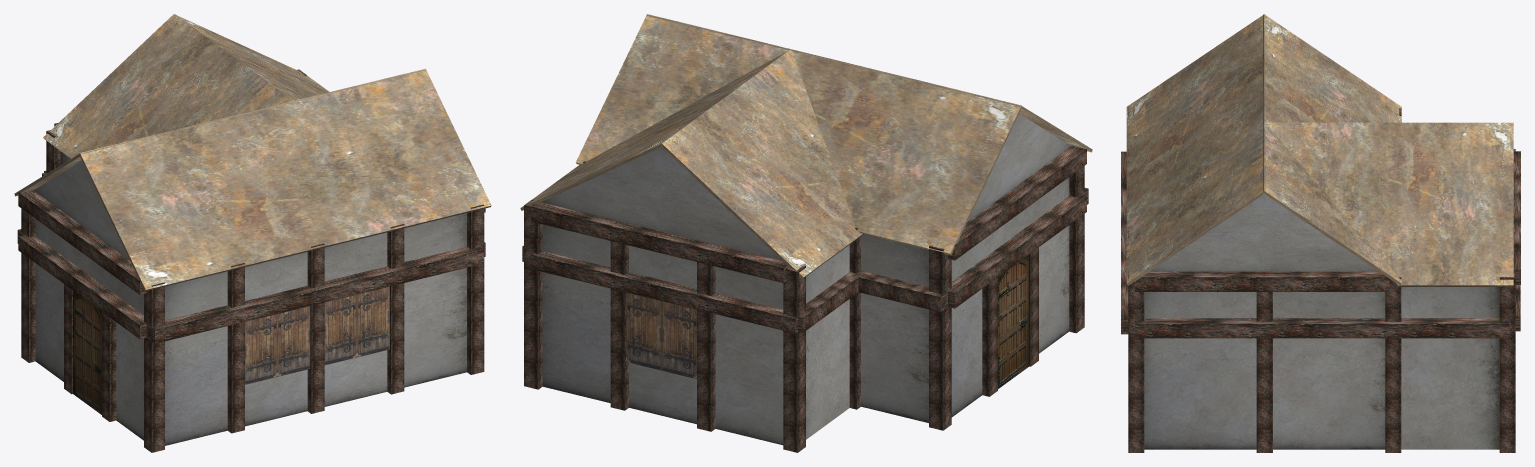
File: House1.FBX
3 renders of one model, left to right at view 1: azimuth 30°, elevation 25°; view 2: azimuth 150°, elevation 25°; view 3: azimuth 270°, elevation 25°, orthographic. The views are drawn at different scales.
Visible parts, largest first — view 1: Roof002, Base, Roof004, WoodenBeam014, HatchWindowLeft (×2), HatchWindowRight (×2), WoodenBeam006, Prism1, WoodenBeam009, WoodenPillar002, Door, Roof005 (+8 smaller); view 2: Base, Roof1, Roof004, Prism2, WoodenBeam013, WoodenBeam012, Roof005, WoodenBeam006, WoodenBeam009, Prism1, WoodenPillar007, WoodenPillar001 (+13 smaller); view 3: Base, Roof005, Roof002, Roof1, Prism1, WoodenBeam010, WoodenBeam011, WoodenPillar008, WoodenPillar003, WoodenPillar004, WoodenPillar009, WoodenBeam014 (+1 smaller).
Boxes of the visible parts, x1,y1,x2,y2 form: Roof002: [79, 68, 491, 291]; Base: [35, 151, 466, 445]; Roof004: [43, 14, 291, 158]; WoodenBeam014: [147, 247, 483, 343]; HatchWindowLeft (×2): [277, 286, 389, 376]; HatchWindowRight (×2): [245, 294, 356, 384]; WoodenBeam006: [18, 235, 146, 339]; Prism1: [34, 160, 129, 260]; WoodenBeam009: [18, 190, 146, 294]; WoodenPillar002: [144, 282, 164, 452]; Door: [73, 290, 101, 414]; Roof005: [174, 14, 329, 100]; Base: [542, 177, 1069, 445]; Roof1: [576, 14, 1021, 255]; Roof004: [661, 50, 863, 279]; Prism2: [541, 147, 781, 260]; WoodenBeam013: [531, 202, 788, 282]; WoodenBeam012: [531, 251, 797, 333]; Roof005: [520, 50, 789, 210]; WoodenBeam006: [948, 195, 1086, 308]; WoodenBeam009: [947, 145, 1086, 260]; Prism1: [967, 114, 1070, 222]; WoodenPillar007: [783, 265, 805, 452]; WoodenPillar001: [929, 245, 951, 430]; Base: [1144, 287, 1499, 449]; Roof005: [1266, 122, 1513, 286]; Roof002: [1126, 14, 1265, 285]; Roof1: [1262, 14, 1401, 285]; Prism1: [1150, 194, 1378, 271]; WoodenBeam010: [1135, 318, 1509, 338]; WoodenBeam011: [1135, 271, 1389, 291]; WoodenPillar008: [1499, 273, 1515, 452]; WoodenPillar003: [1128, 271, 1144, 452]; WoodenPillar004: [1385, 277, 1401, 452]; WoodenPillar009: [1256, 292, 1272, 452]; WoodenBeam014: [1121, 151, 1128, 334].
Size of the model in its own units: 65.05 by 45.61 by 62.19.
